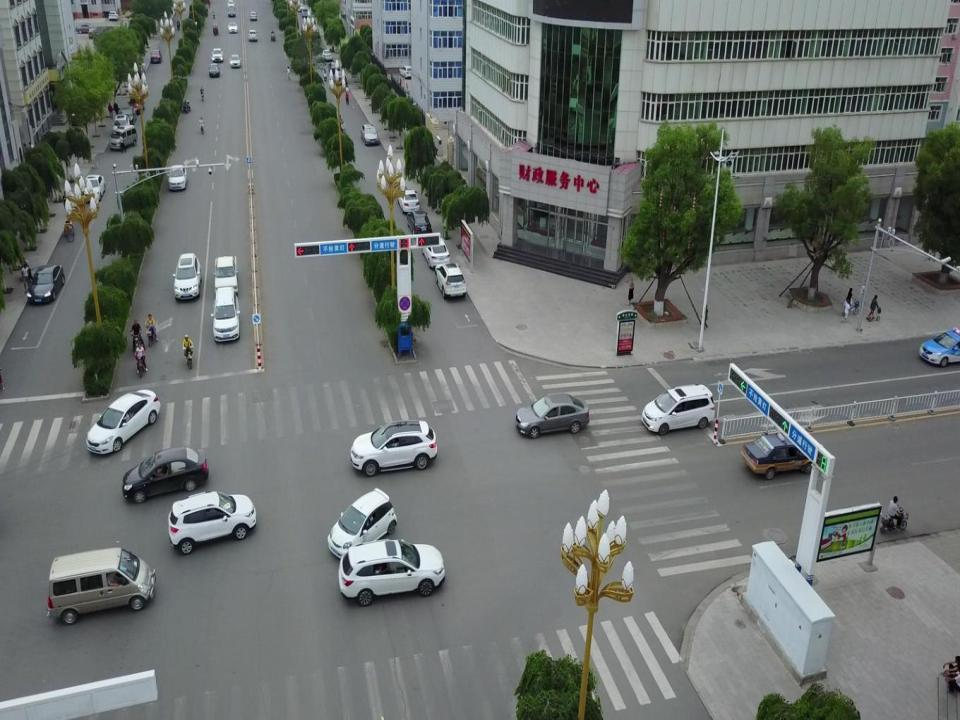car: (339, 540, 447, 602), (168, 490, 257, 554), (328, 487, 398, 564), (122, 447, 210, 505), (85, 390, 162, 454), (350, 420, 438, 475), (642, 383, 715, 434), (741, 430, 819, 477), (516, 392, 590, 438), (211, 287, 241, 342), (918, 328, 960, 366), (173, 253, 201, 302), (27, 264, 63, 302), (434, 264, 467, 296), (213, 256, 239, 295), (421, 236, 450, 268), (81, 175, 105, 202), (398, 188, 420, 215), (407, 211, 432, 234), (168, 165, 186, 190), (360, 123, 380, 145), (113, 115, 129, 137), (118, 106, 135, 126), (76, 23, 98, 34), (145, 323, 155, 346), (150, 49, 162, 64), (208, 63, 220, 77), (212, 47, 223, 62), (88, 27, 101, 39), (229, 55, 241, 68), (334, 71, 346, 84), (328, 62, 340, 74), (322, 48, 332, 61), (108, 10, 119, 21), (228, 22, 239, 32), (248, 29, 257, 41), (227, 7, 236, 17), (249, 11, 257, 20), (297, 3, 304, 12), (227, 0, 234, 8)
van: (47, 548, 155, 626), (110, 124, 138, 149), (301, 8, 308, 16)
